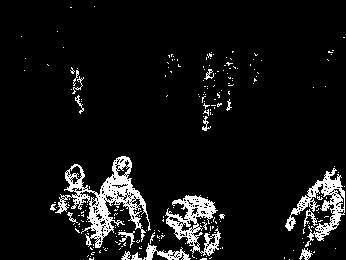person: (97, 154, 152, 260), (49, 162, 108, 258), (287, 164, 345, 260), (155, 191, 227, 260)
